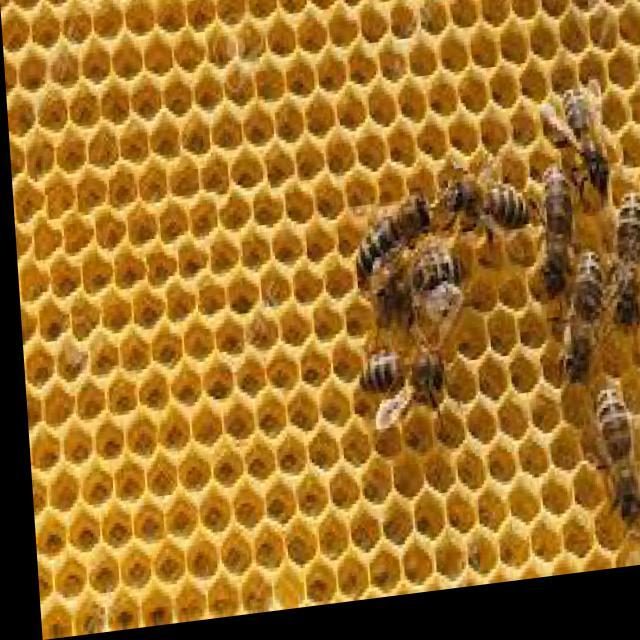Abeille: (345, 323, 454, 443), (343, 179, 433, 305), (432, 158, 538, 262), (578, 387, 639, 559), (544, 81, 610, 215), (557, 259, 613, 400), (528, 176, 568, 293), (605, 206, 639, 340)
